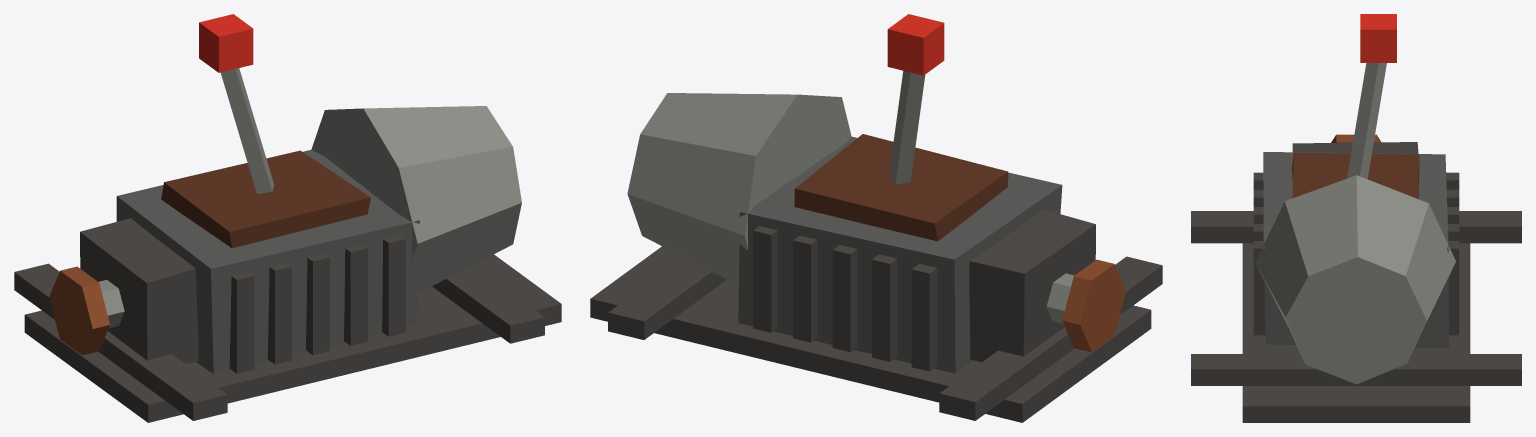
File: transmission.glb
3 views of the same model, side by side, from view 1: azimuth 30°, elevation 25°; view 2: azimuth 150°, elevation 25°; view 3: azimuth 270°, elevation 25° (orthographic). The views are drawn at different scales.
Visible parts, largest first — view 1: transmission; view 2: transmission; view 3: transmission.
Boxes of the visible parts, left/top/right/bottom form: transmission: left=14, top=14, right=561, bottom=422; transmission: left=590, top=14, right=1162, bottom=422; transmission: left=1191, top=14, right=1521, bottom=422.
Bounding box in the file's own units: 1.25 × 0.85 × 0.9.
